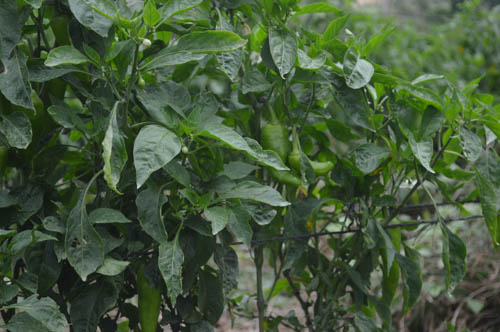ChiliPepper: (262, 125, 299, 189), (135, 266, 166, 327), (288, 153, 337, 177)
